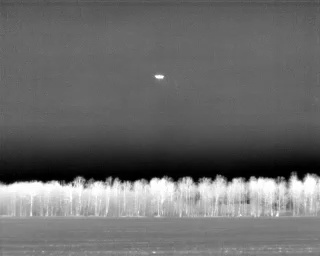DRONE: (151, 70, 168, 84)
